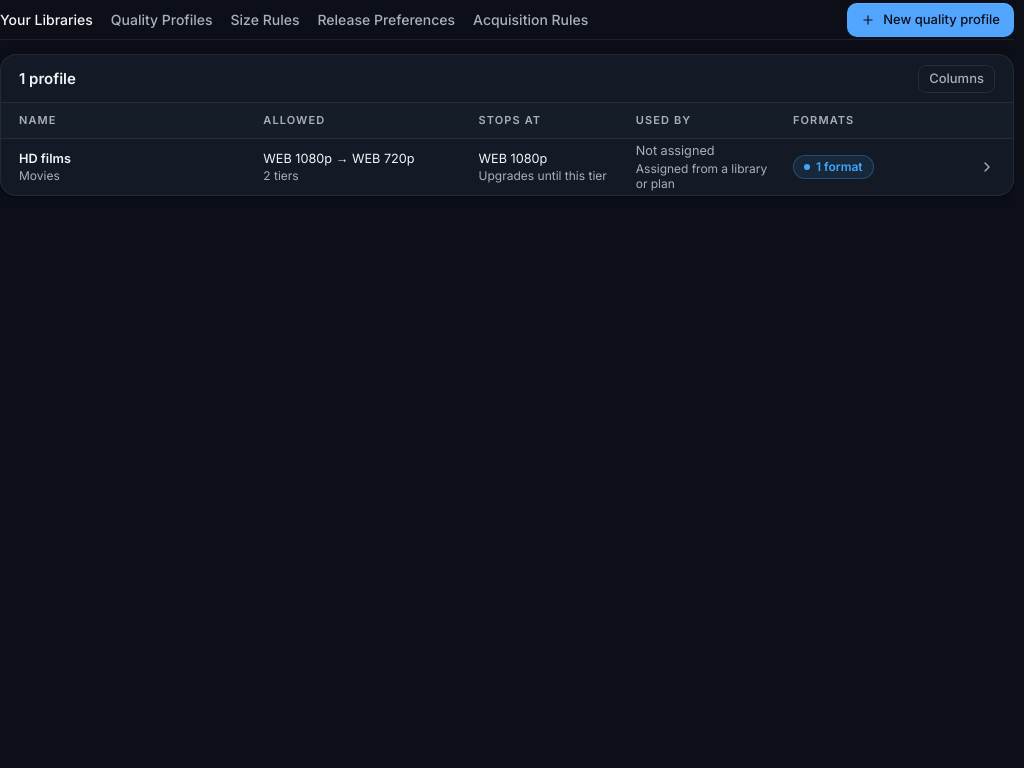
Scenario: Effective release preferences on a saved profile › says it is compiling while the plan is on its way
This screenshot has width=1024, height=768.
Click the text "HD films": click(45, 158) [19,151,71,166]
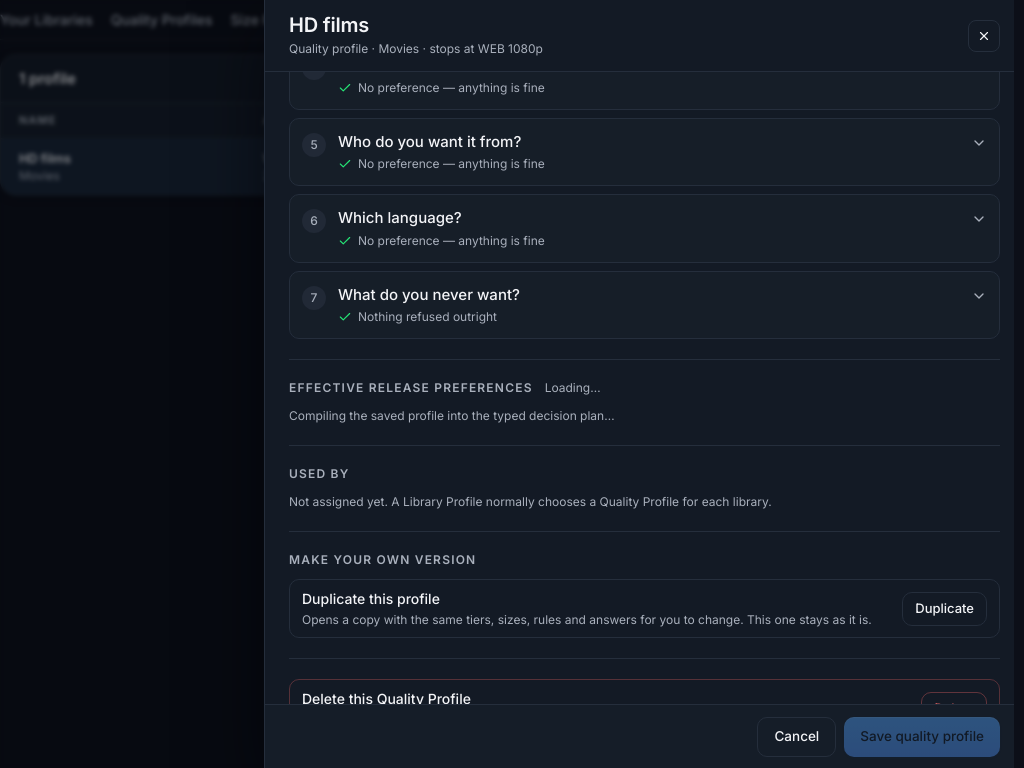
Check: the text "Compiling the saved profile into the typed decision plan…" is shown, box [289,408,615,423]
Check: the text "Loading…" is shown, box [545,380,601,395]
